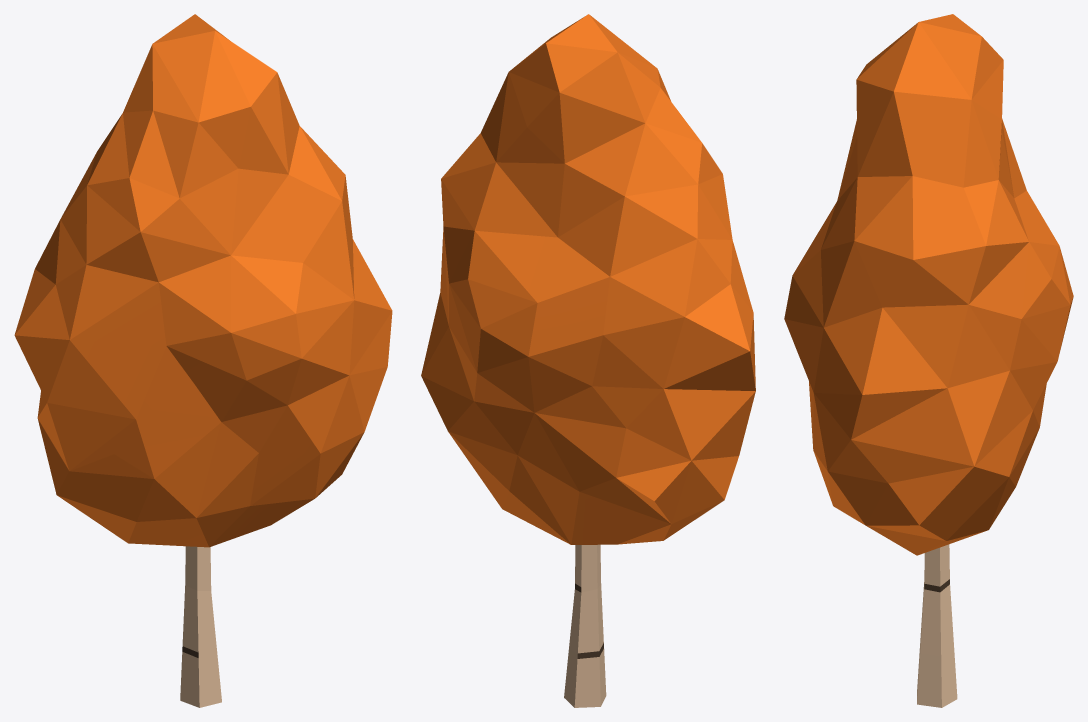
Rendered from tree-birch_orange.glb.
3 renders of one model, left to right at view 1: azimuth 30°, elevation 25°; view 2: azimuth 150°, elevation 25°; view 3: azimuth 270°, elevation 25°, orthographic.
Parts seen in each view (by area): view 1: tree-birch_orange; view 2: tree-birch_orange; view 3: tree-birch_orange.
Part boxes in pixels (box(x1,y1,x2,y2)): tree-birch_orange: box(14, 14, 392, 707); tree-birch_orange: box(421, 14, 755, 707); tree-birch_orange: box(784, 14, 1073, 707).
Bounding box in the file's own units: 3.48 × 6.77 × 2.61.
Materials: 1 (1 with a texture image).
